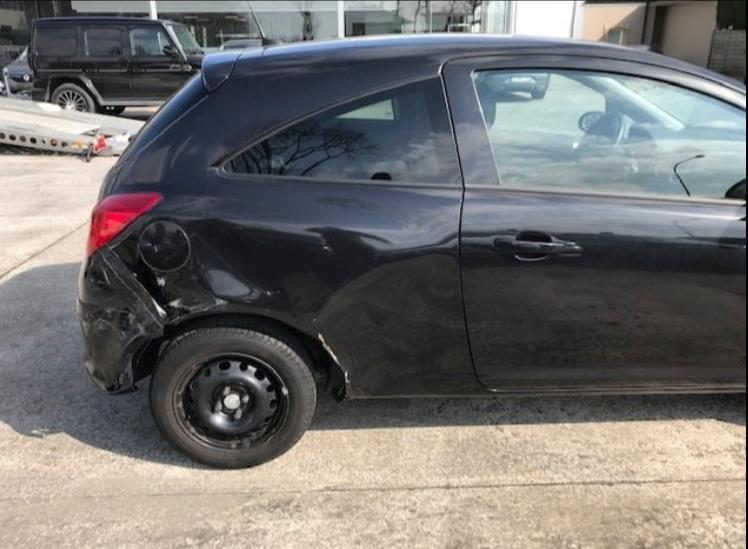Broken part: (95, 243, 168, 332)
Corrosion: (332, 369, 375, 402)
Dent: (318, 252, 476, 395), (114, 215, 275, 322), (80, 299, 160, 392), (302, 227, 391, 287), (79, 250, 159, 315), (283, 271, 330, 318)
Flaking: (318, 333, 340, 367)
Scratch: (166, 295, 229, 312), (238, 288, 280, 303), (100, 262, 110, 285), (156, 275, 168, 287), (104, 307, 128, 312)
